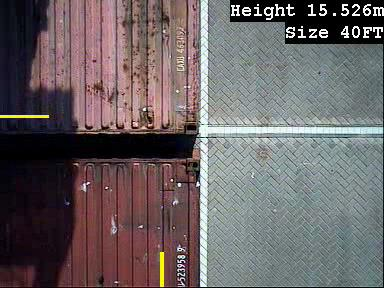groundmarker_2: (194, 42, 225, 110), (195, 220, 225, 287)
